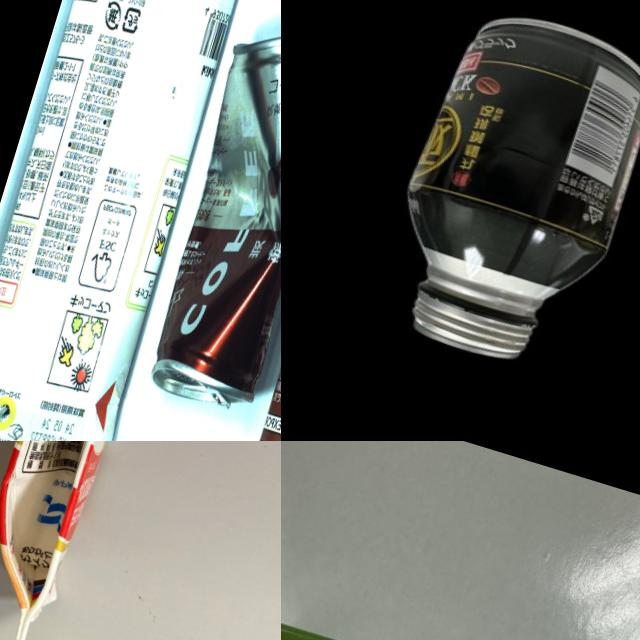Aluminium Foil: (0, 0, 271, 441), (0, 441, 194, 640), (222, 0, 281, 441)
Can: (365, 0, 640, 395), (137, 26, 281, 426)
